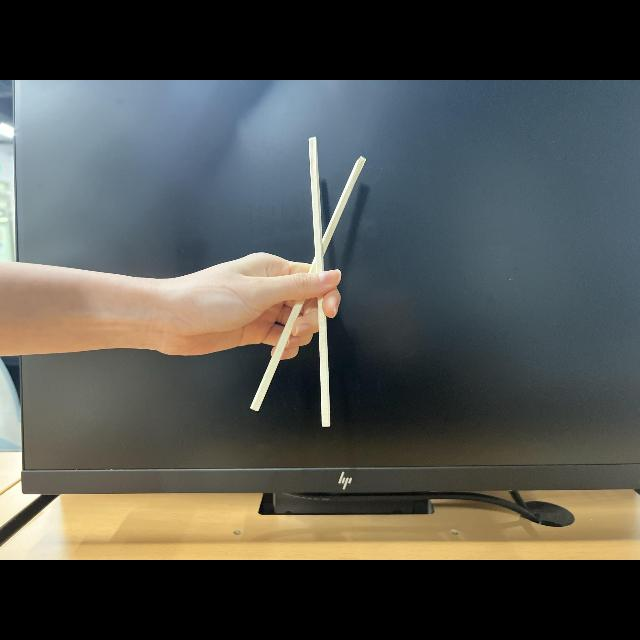stick: (250, 136, 368, 427)
